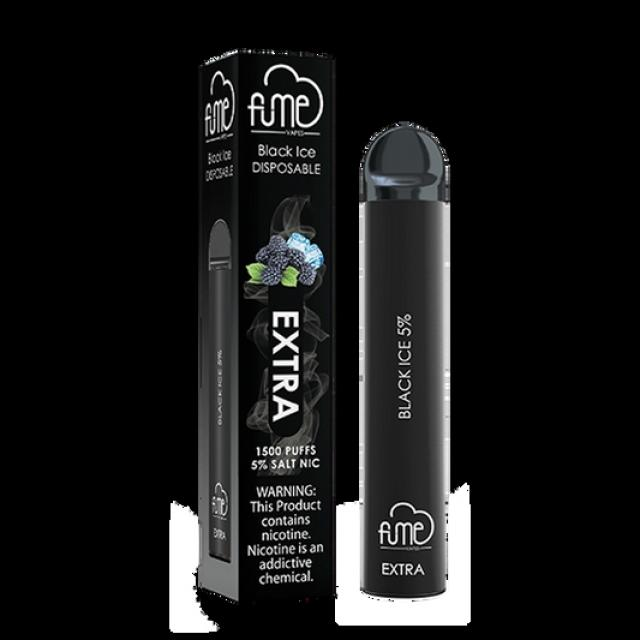Vape-images: (194, 47, 338, 616)
